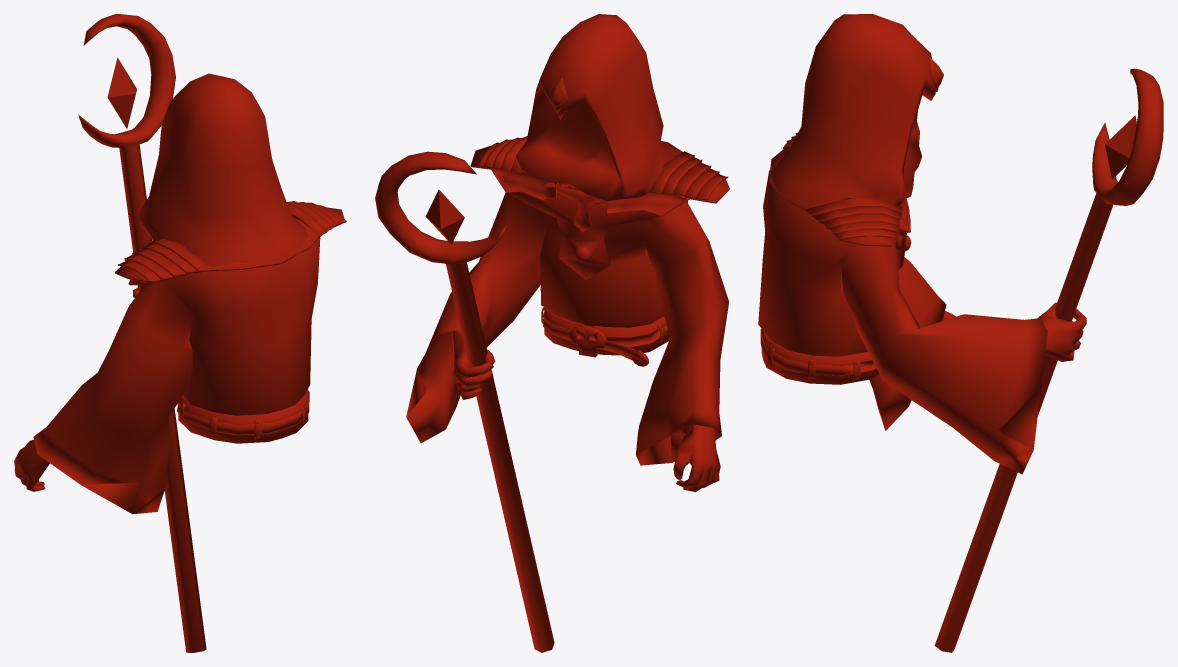
File: top_000064.obj
3 renders of one model, left to right at view 1: azimuth 30°, elevation 25°; view 2: azimuth 150°, elevation 25°; view 3: azimuth 270°, elevation 25°, orthographic. The views are drawn at different scales.
Visible parts, largest first — view 1: LowPoly_Warlock.000_Plane.005; view 2: LowPoly_Warlock.000_Plane.005; view 3: LowPoly_Warlock.000_Plane.005.
Part boxes in pixels (x1,y1,x2,y2): LowPoly_Warlock.000_Plane.005: (14, 14, 346, 652); LowPoly_Warlock.000_Plane.005: (375, 14, 729, 652); LowPoly_Warlock.000_Plane.005: (758, 14, 1163, 652).
Size of the model in its own units: 0.9478 by 1.97 by 1.15.
